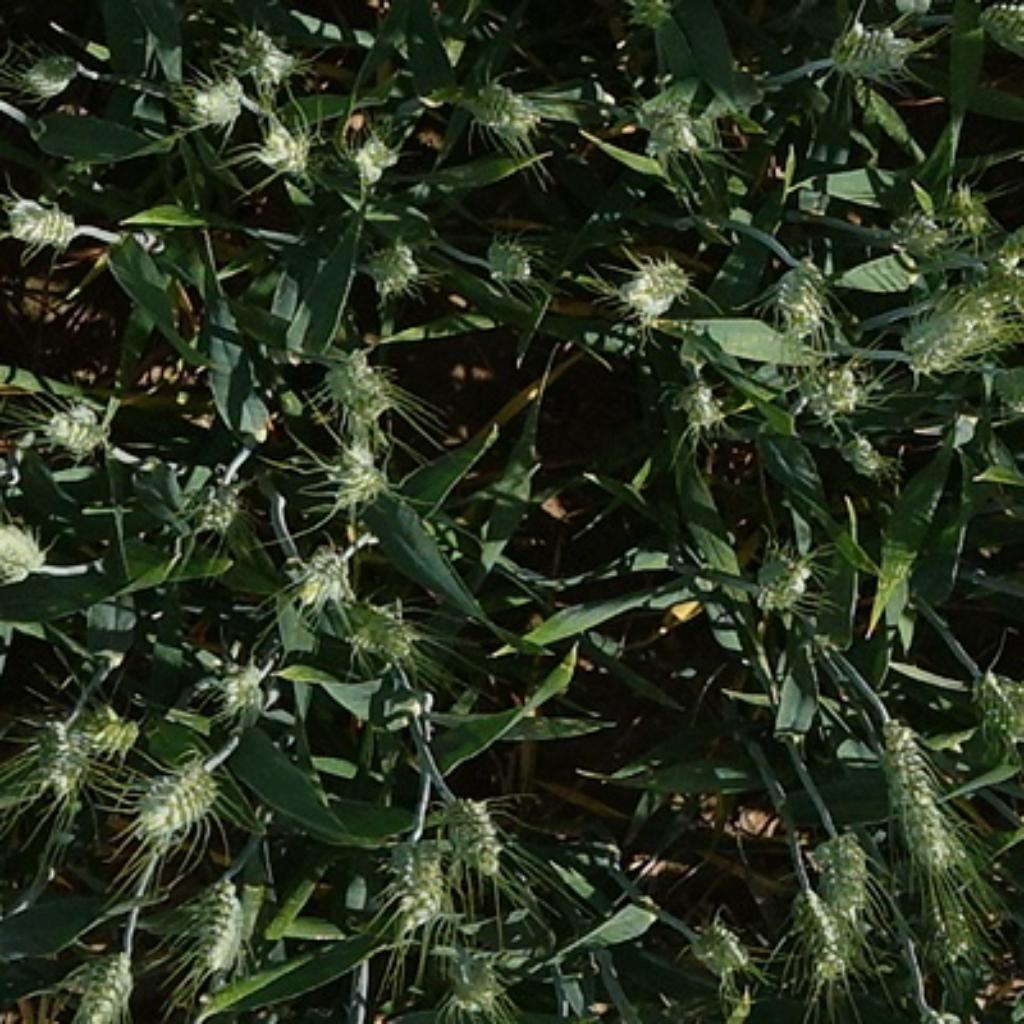0-0: (865, 714, 972, 878), (10, 683, 133, 793), (176, 865, 261, 977), (128, 752, 222, 847), (378, 824, 458, 926), (427, 785, 512, 878), (627, 76, 719, 161), (803, 834, 867, 954), (327, 588, 422, 668), (783, 878, 844, 998), (890, 294, 983, 371), (427, 931, 509, 1018), (2, 186, 94, 261), (458, 69, 550, 143), (314, 343, 401, 419), (821, 15, 921, 81), (762, 248, 837, 335), (742, 532, 819, 616), (609, 248, 698, 317), (783, 350, 872, 419), (171, 465, 250, 542), (919, 888, 985, 977), (284, 535, 360, 611), (960, 660, 1024, 750), (71, 944, 143, 1024), (317, 430, 391, 506), (30, 394, 112, 460), (819, 419, 898, 486), (222, 20, 302, 84), (678, 911, 755, 977), (332, 122, 407, 186), (12, 40, 89, 102), (207, 652, 276, 721), (0, 514, 61, 592), (176, 66, 250, 128), (878, 199, 952, 261), (657, 371, 732, 432), (250, 117, 320, 181), (360, 235, 422, 294), (478, 230, 540, 284), (972, 0, 1024, 61), (938, 178, 989, 240), (985, 263, 1024, 330), (985, 197, 1024, 263), (606, 0, 675, 28)
